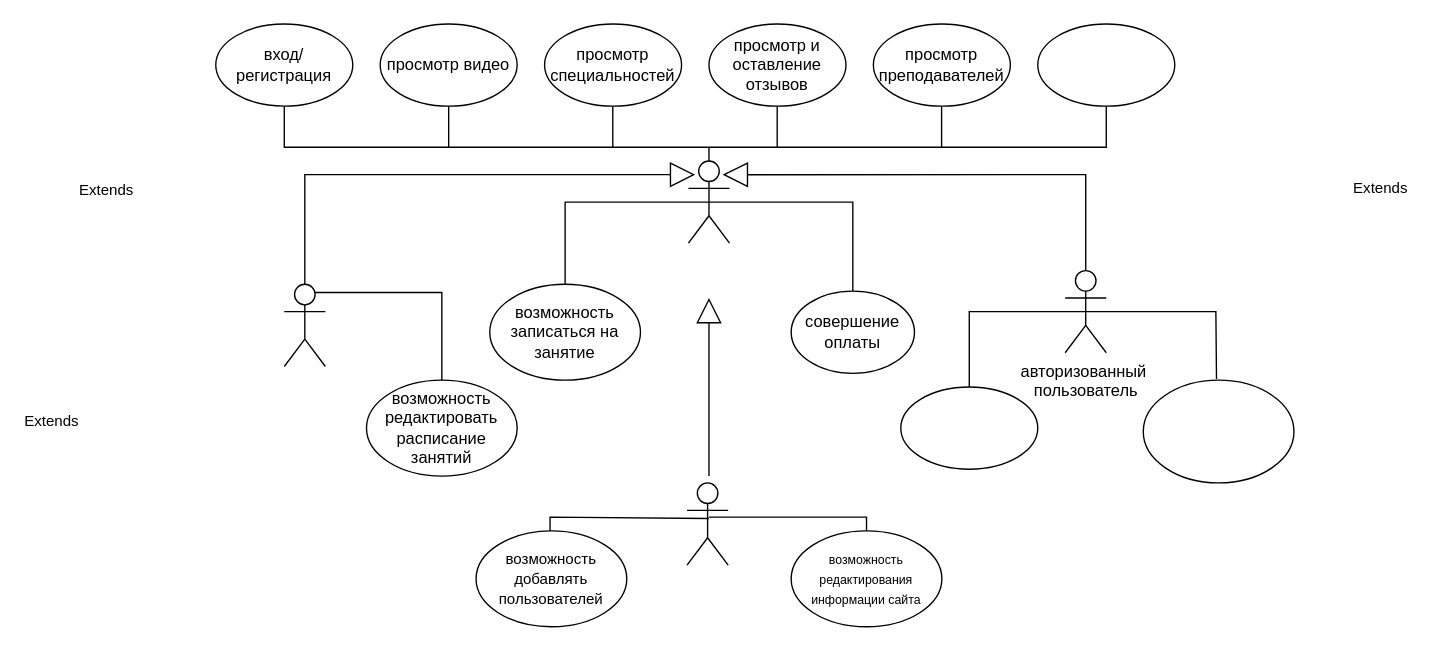
Some shapes in this 1430 by 651 pixel diagram are drawn without their labels. The box of each missing label's shape, as (x1, y1, x2, y2) in pixels:
администратор: (686, 482, 728, 565)
возможность зайти в личный кабинет: (899, 386, 1038, 469)
возможность просматривать личное расписание: (1142, 379, 1294, 483)
неавторизованный пользователь: (687, 160, 730, 243)
преподаватель: (283, 283, 325, 366)
просмотр расписания: (1036, 23, 1175, 106)
